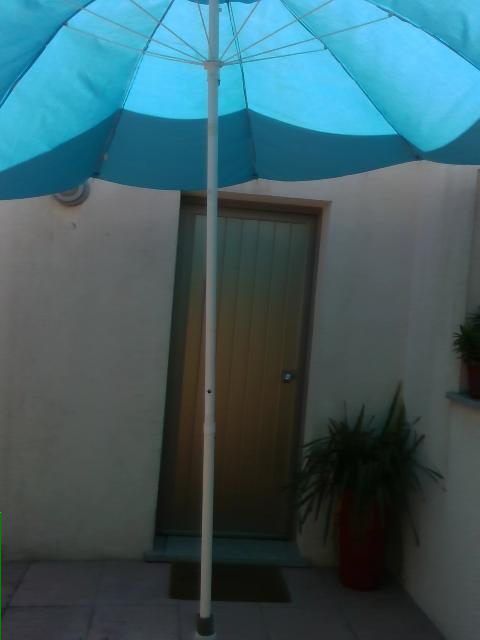door: (151, 187, 332, 559)
